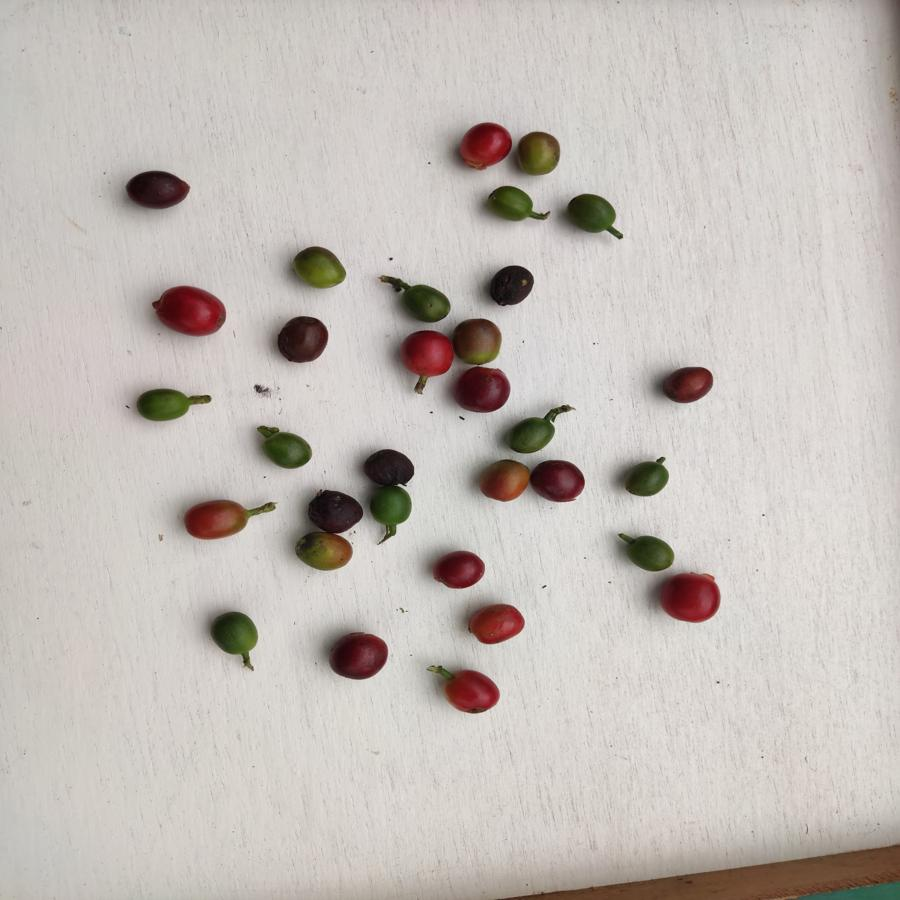Inmaduro: (209, 609, 263, 659), (395, 282, 454, 324), (565, 188, 616, 236), (504, 412, 557, 454), (134, 385, 191, 423), (485, 184, 538, 223), (367, 485, 414, 528), (624, 459, 672, 499), (629, 532, 676, 572), (262, 431, 311, 469)
Maduro: (151, 284, 229, 337), (660, 572, 720, 624), (441, 667, 501, 715), (456, 122, 515, 169), (400, 328, 454, 378), (466, 600, 524, 646)
Pinton: (180, 497, 252, 543), (290, 246, 354, 290), (293, 533, 359, 574), (451, 315, 502, 366), (477, 456, 528, 502), (513, 128, 562, 175)
Sobremaduro: (328, 629, 393, 685), (303, 486, 365, 536), (455, 365, 511, 416), (530, 457, 588, 506), (124, 167, 193, 208), (277, 315, 331, 366), (489, 263, 539, 311), (430, 549, 485, 590), (659, 364, 715, 403), (362, 448, 415, 489)
